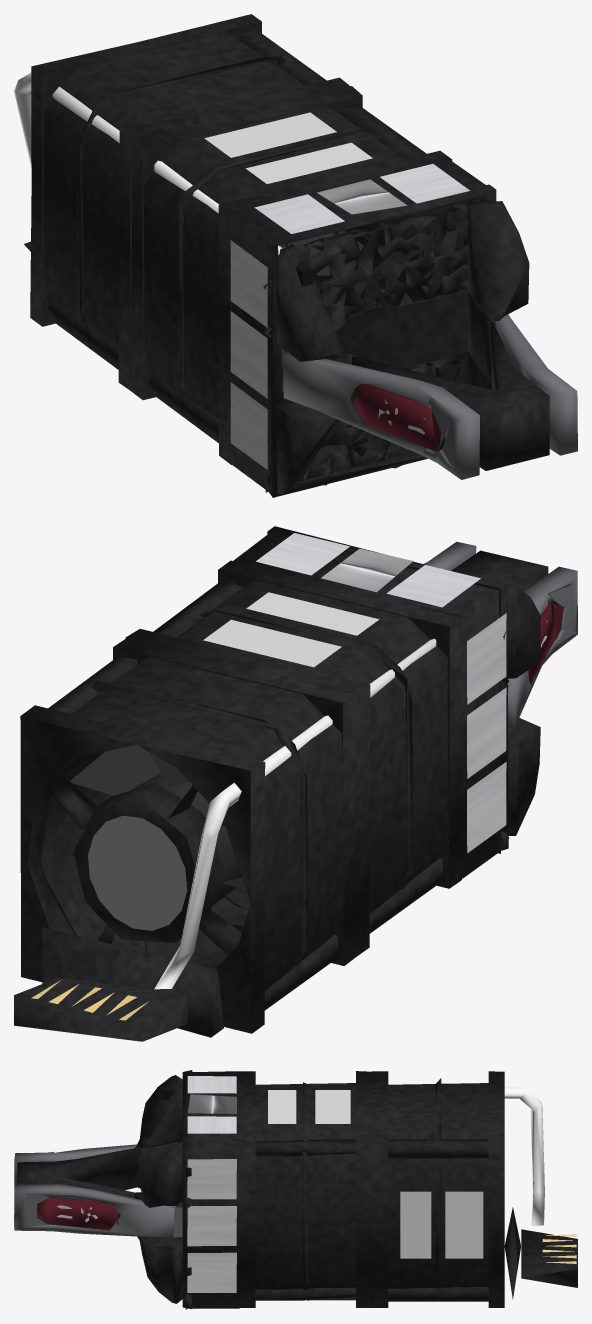
Rendered from C9K-T2-FANTRAY.far.glb.
3 renders of one model, top to bottom at view 1: azimuth 30°, elevation 25°; view 2: azimuth 150°, elevation 25°; view 3: azimuth 270°, elevation 25°, orthographic. The views are drawn at different scales.
Parts seen in each view (by area): view 1: Body_far; view 2: Body_far; view 3: Body_far.
Part boxes in pixels (<box>): Body_far: <box>14,14,577,497</box>; Body_far: <box>14,526,577,1041</box>; Body_far: <box>14,1070,577,1309</box>.
Size of the model in its own units: 0.0375 by 0.0401 by 0.1192.
Materials: 4 (3 with a texture image).
